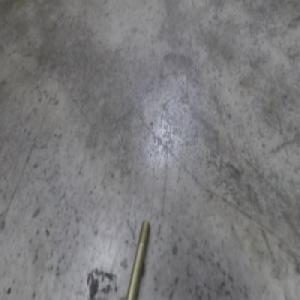Bolt: (124, 220, 150, 299)
